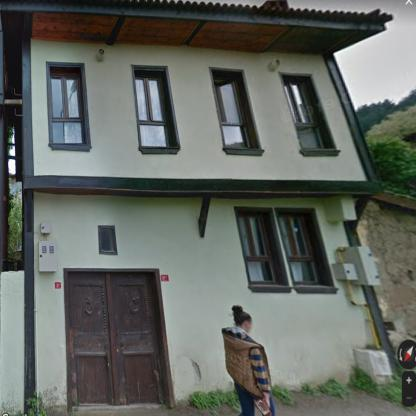door: (64, 269, 173, 407)
window: (277, 208, 332, 286), (280, 74, 336, 148), (236, 208, 288, 284), (132, 65, 178, 148), (211, 69, 260, 146), (46, 63, 89, 144), (99, 226, 115, 252)
